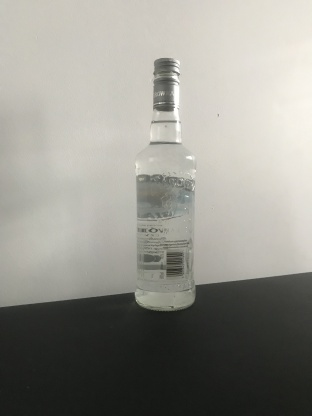nakretka: (151, 55, 181, 112)
